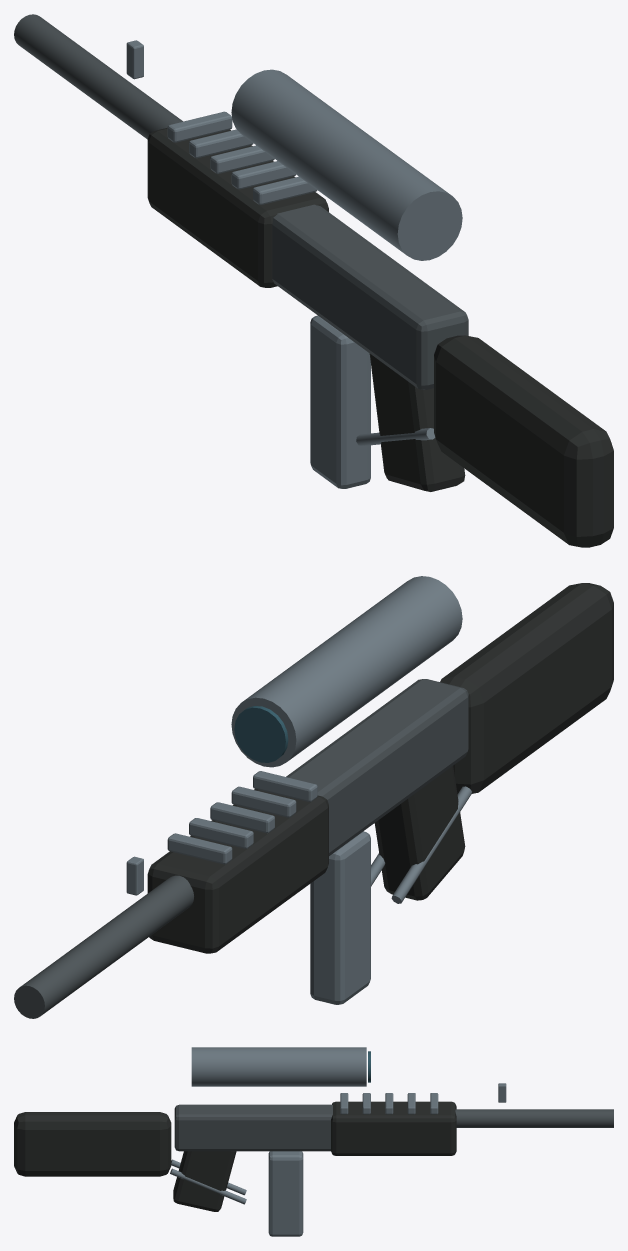
File: Marksman.fbx
3 views of the same model, one above another, from view 1: azimuth 30°, elevation 25°; view 2: azimuth 150°, elevation 25°; view 3: azimuth 270°, elevation 25° (orthographic). The views are drawn at different scales.
Parts seen in each view (by area): view 1: Body.028; view 2: Body.028; view 3: Body.028.
Boxes of the visible parts, box(x1,y1,x2,y2) form: Body.028: box(14, 14, 613, 547); Body.028: box(14, 576, 613, 1018); Body.028: box(14, 1047, 613, 1236).
Bounding box in the file's own units: 0.095 × 0.454 × 1.34.
